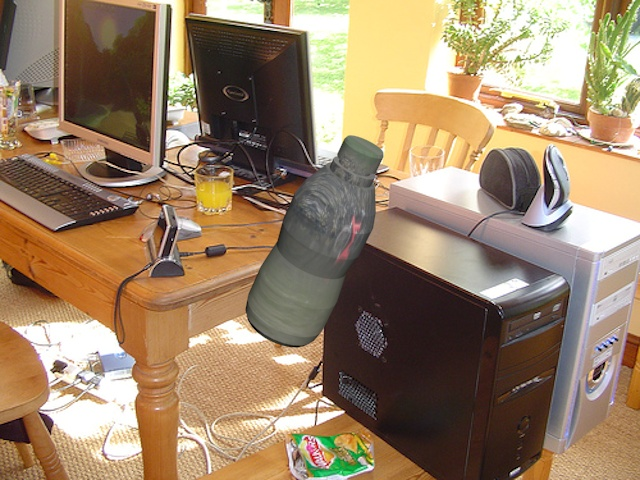bottle: (241, 129, 385, 352)
